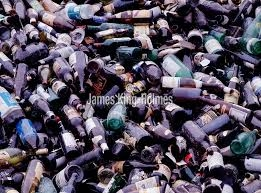glass: (200, 94, 255, 126), (181, 117, 218, 155), (93, 35, 145, 61), (81, 116, 113, 155), (52, 115, 82, 155), (1, 143, 51, 167), (115, 119, 157, 147), (159, 73, 220, 92), (160, 52, 199, 81), (20, 90, 58, 119), (67, 50, 92, 94), (61, 103, 92, 138), (35, 43, 80, 67), (1, 82, 26, 124), (49, 166, 86, 193), (228, 127, 261, 156), (37, 9, 77, 32), (21, 157, 46, 193), (85, 22, 133, 40), (108, 8, 156, 24), (106, 96, 128, 129), (191, 49, 226, 69), (202, 32, 227, 58), (12, 62, 29, 96), (47, 74, 72, 97), (10, 29, 35, 51), (20, 21, 44, 42)
